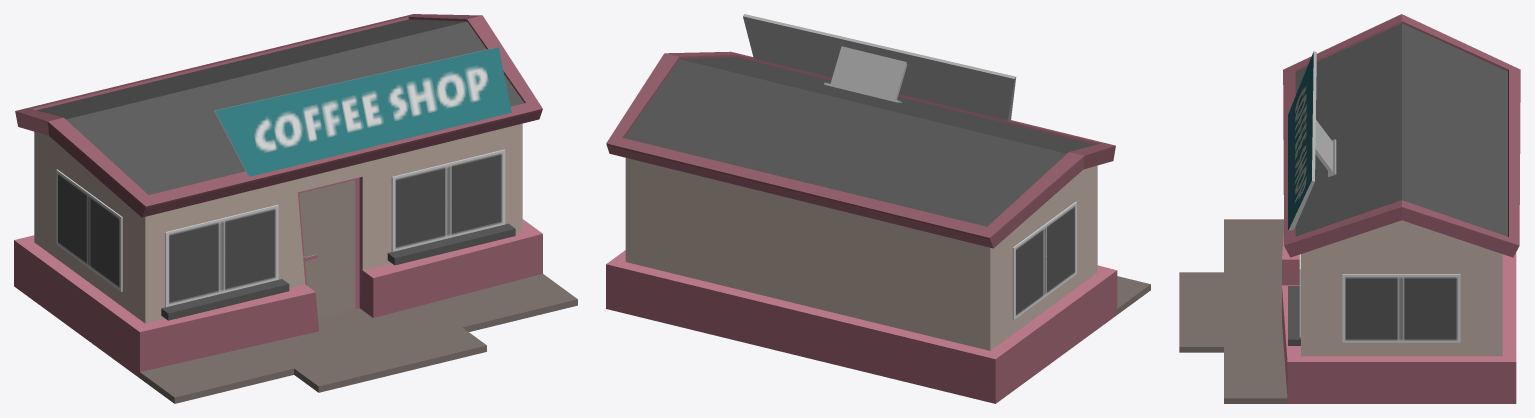
Rendered from coffeeShop02_color02.fbx.
The picture shows the model from 3 angles, left to right: view 1: azimuth 30°, elevation 25°; view 2: azimuth 150°, elevation 25°; view 3: azimuth 270°, elevation 25°; orthographic projection. The views are drawn at different scales.
Parts seen in each view (by area): view 1: coffeeShop02_color02; view 2: coffeeShop02_color02; view 3: coffeeShop02_color02.
Part boxes in pixels (x1,y1,x2,y2): coffeeShop02_color02: [14, 14, 577, 403]; coffeeShop02_color02: [606, 14, 1150, 403]; coffeeShop02_color02: [1179, 14, 1520, 403].
Bounding box in the file's own units: 1294 × 669 × 968.
